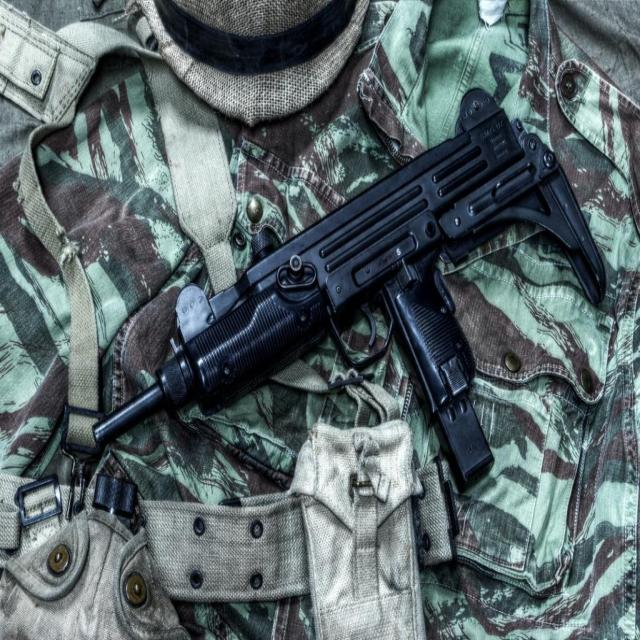firearm: (93, 86, 607, 496)
